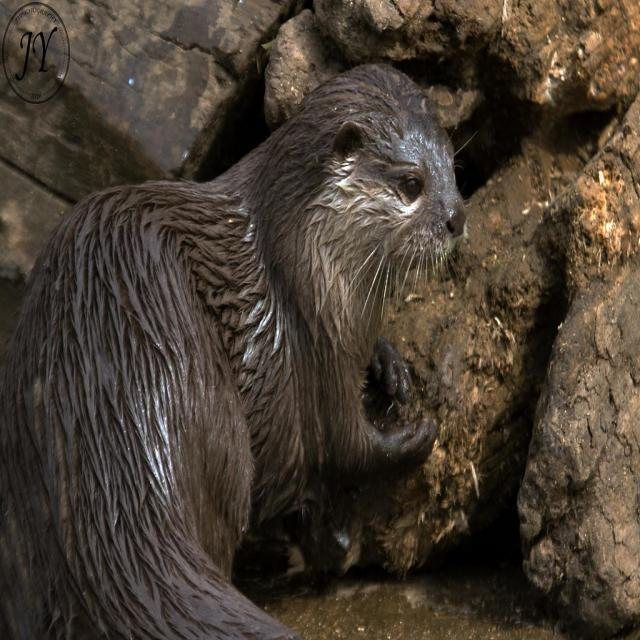otter: (1, 62, 465, 640)
